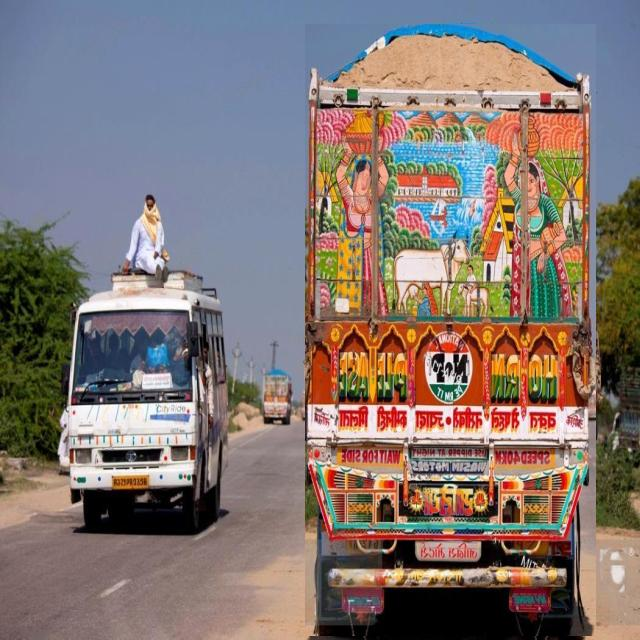bus: (66, 272, 228, 531)
truck: (305, 24, 596, 636)
